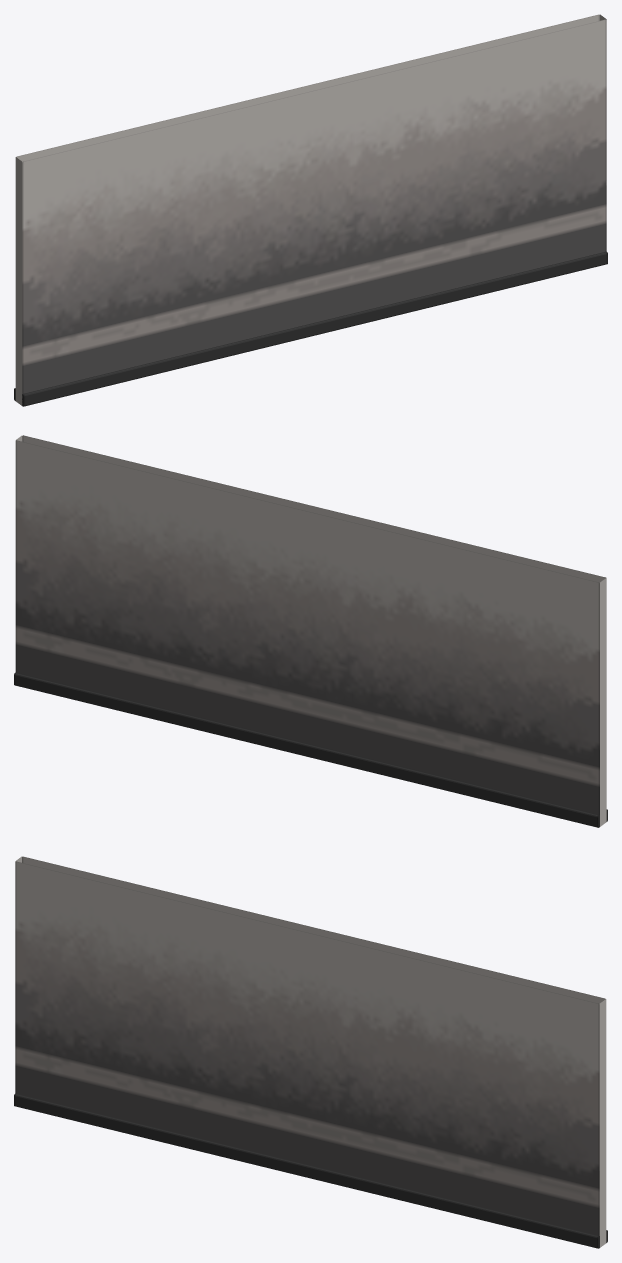
File: Wall_TipoC.fbx
3 views of the same model, one above another, from view 1: azimuth 30°, elevation 25°; view 2: azimuth 150°, elevation 25°; view 3: azimuth 330°, elevation 25° (orthographic).
Visible parts, largest first — view 1: Cube.046, Cube.048; view 2: Cube.046, Cube.049; view 3: Cube.046, Cube.048.
Boxes of the visible parts, bbox=[...] form: Cube.046: bbox=[15, 14, 606, 405]; Cube.048: bbox=[22, 251, 607, 406]; Cube.046: bbox=[15, 435, 606, 826]; Cube.049: bbox=[14, 672, 599, 827]; Cube.046: bbox=[15, 856, 606, 1247]; Cube.048: bbox=[14, 1093, 599, 1248].
Bounding box in the file's own units: 1000 × 400 × 28.98.
